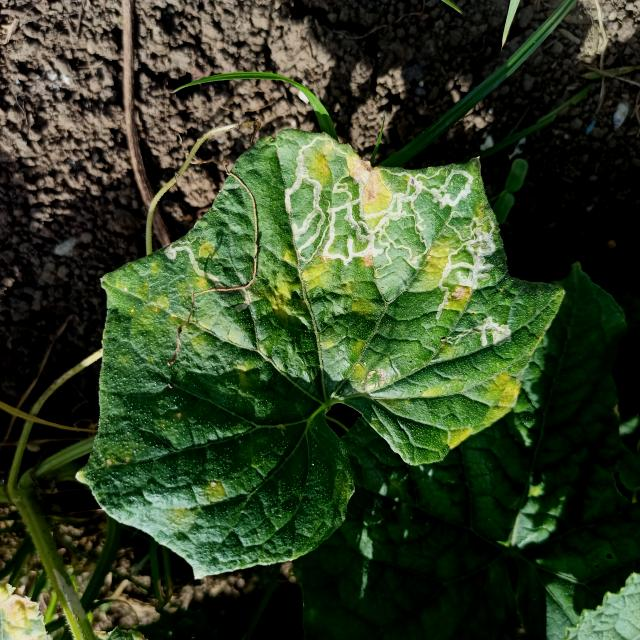disease_cucumber: (266, 137, 502, 383), (136, 239, 267, 363), (421, 368, 526, 452), (170, 479, 228, 527)
